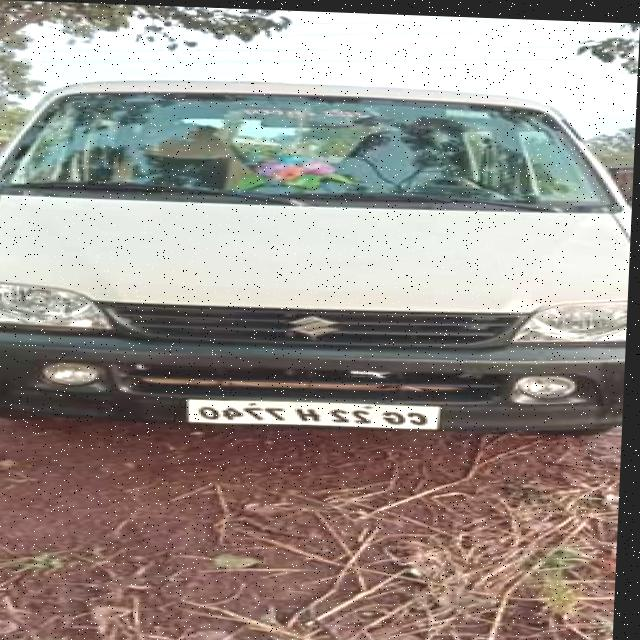plate: (187, 394, 447, 430)
